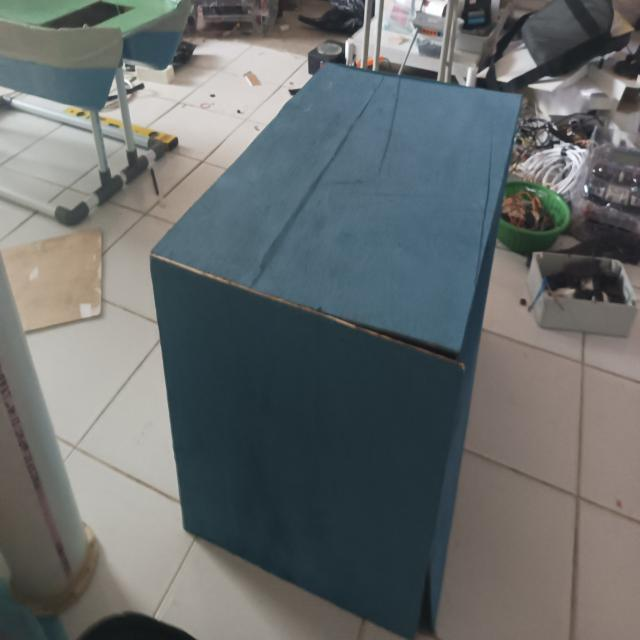blue_box: (150, 17, 514, 640)
